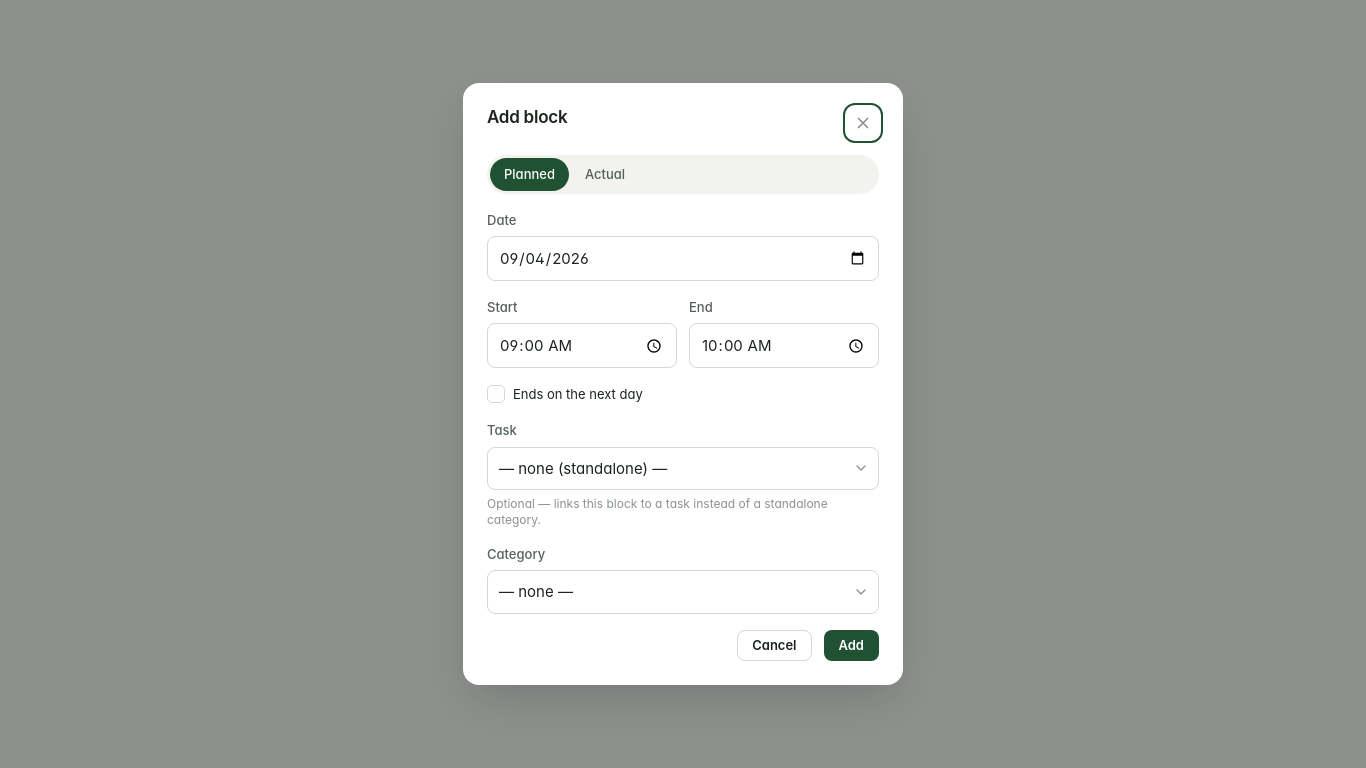
Test: BlockDialog › surfaces a field-level validation error
Click the button "Add".
click(851, 645)  # box 824,630 -> 879,661
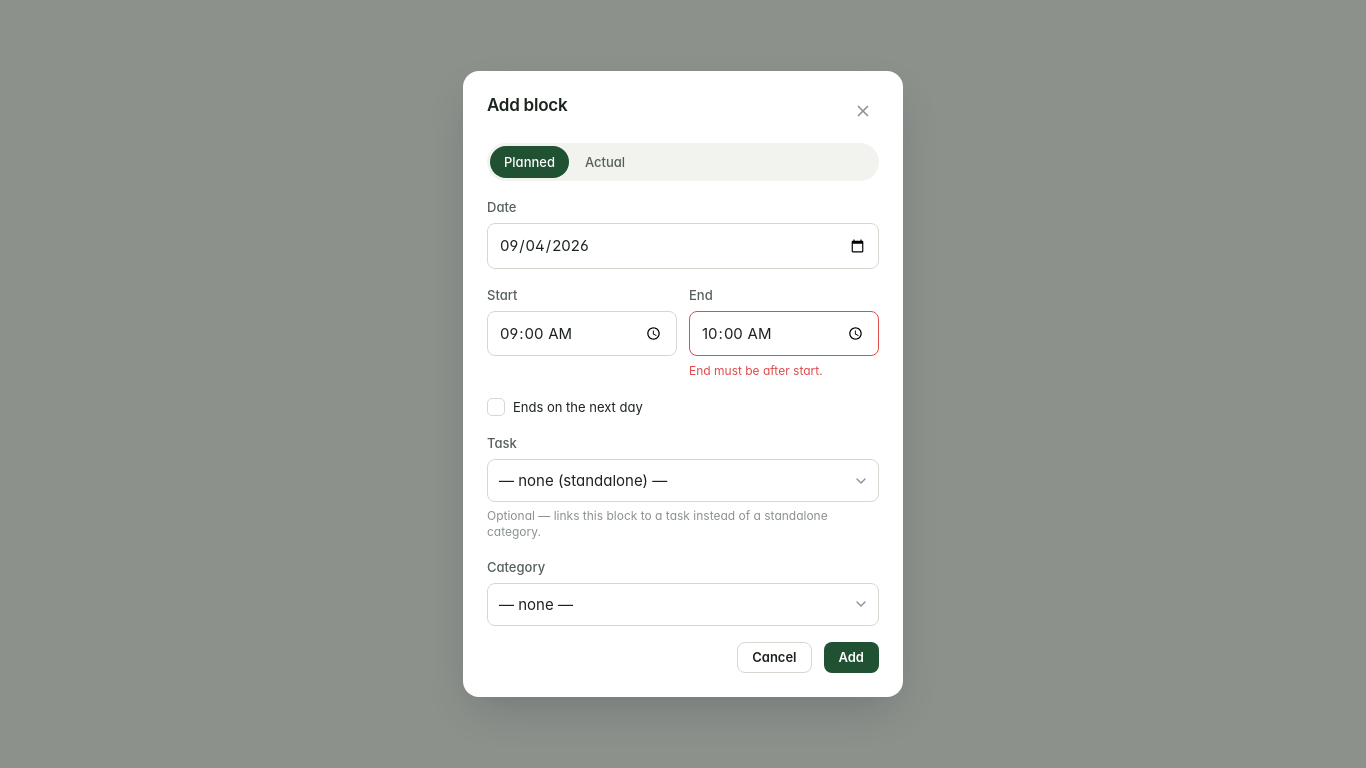
expect the text "End must be after start." is shown: met, box 689,363 -> 823,378
